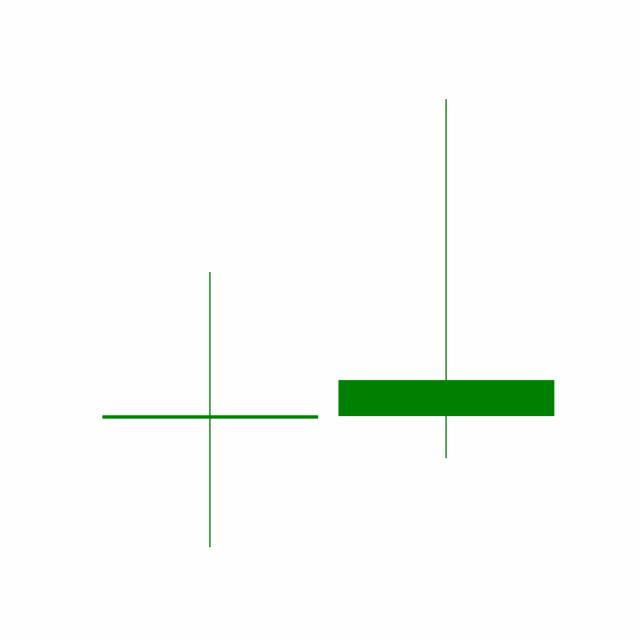Spinning Top: (327, 94, 565, 462)
